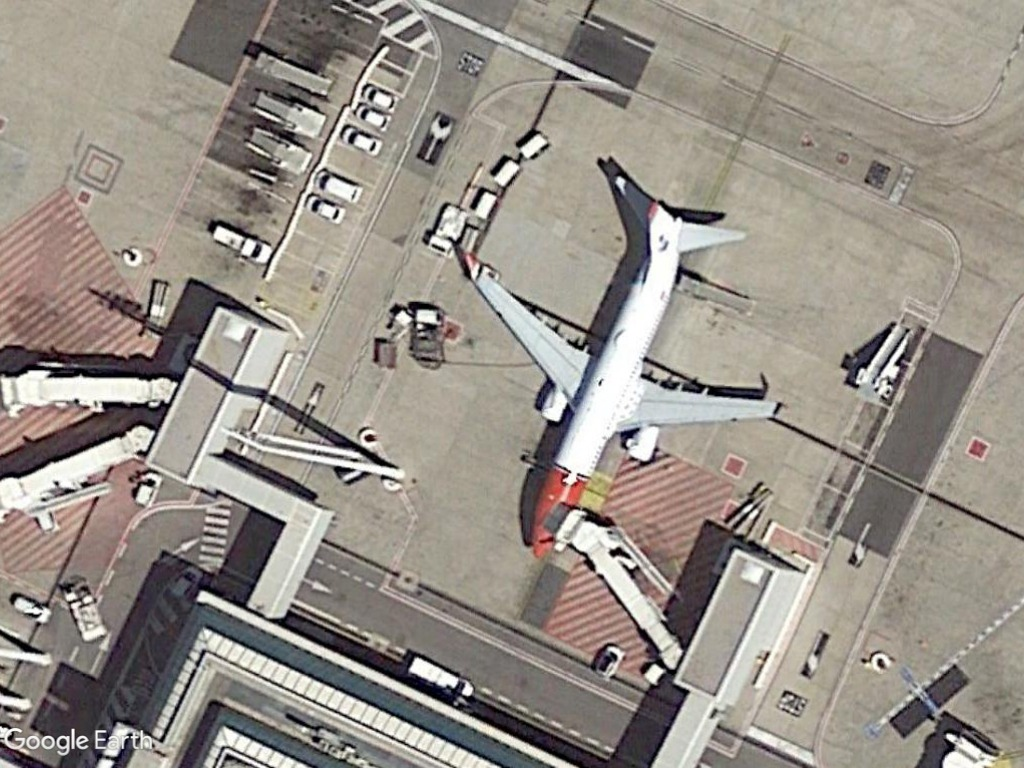airliner: (459, 162, 785, 564)
car: (337, 122, 385, 158), (302, 192, 348, 226), (351, 102, 394, 134), (359, 84, 403, 114)
other: (209, 222, 275, 268), (424, 203, 469, 259)
stairtruck: (849, 315, 916, 404), (243, 86, 328, 140), (253, 46, 334, 98), (241, 124, 315, 176)
van: (402, 649, 479, 706), (315, 168, 365, 205)
